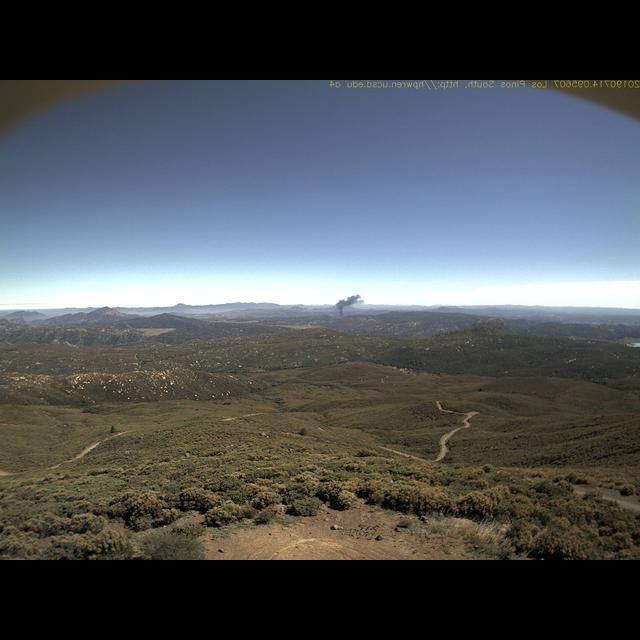Smoke: (333, 290, 367, 319)
